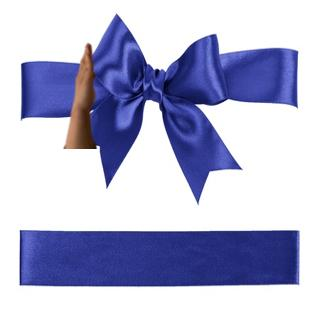RIGHT: (69, 40, 101, 115)
